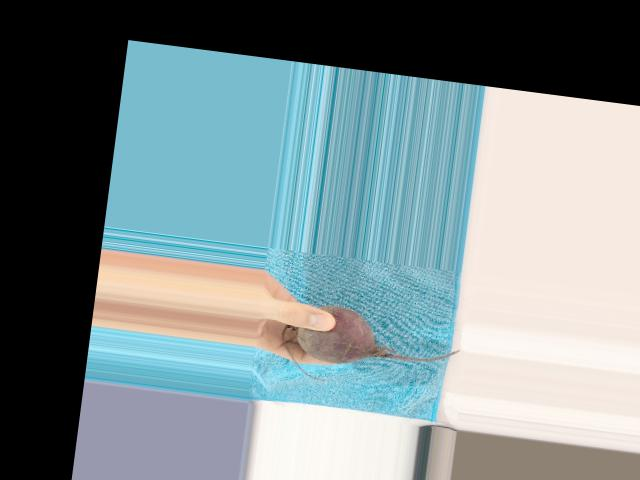beet: (277, 299, 464, 396)
